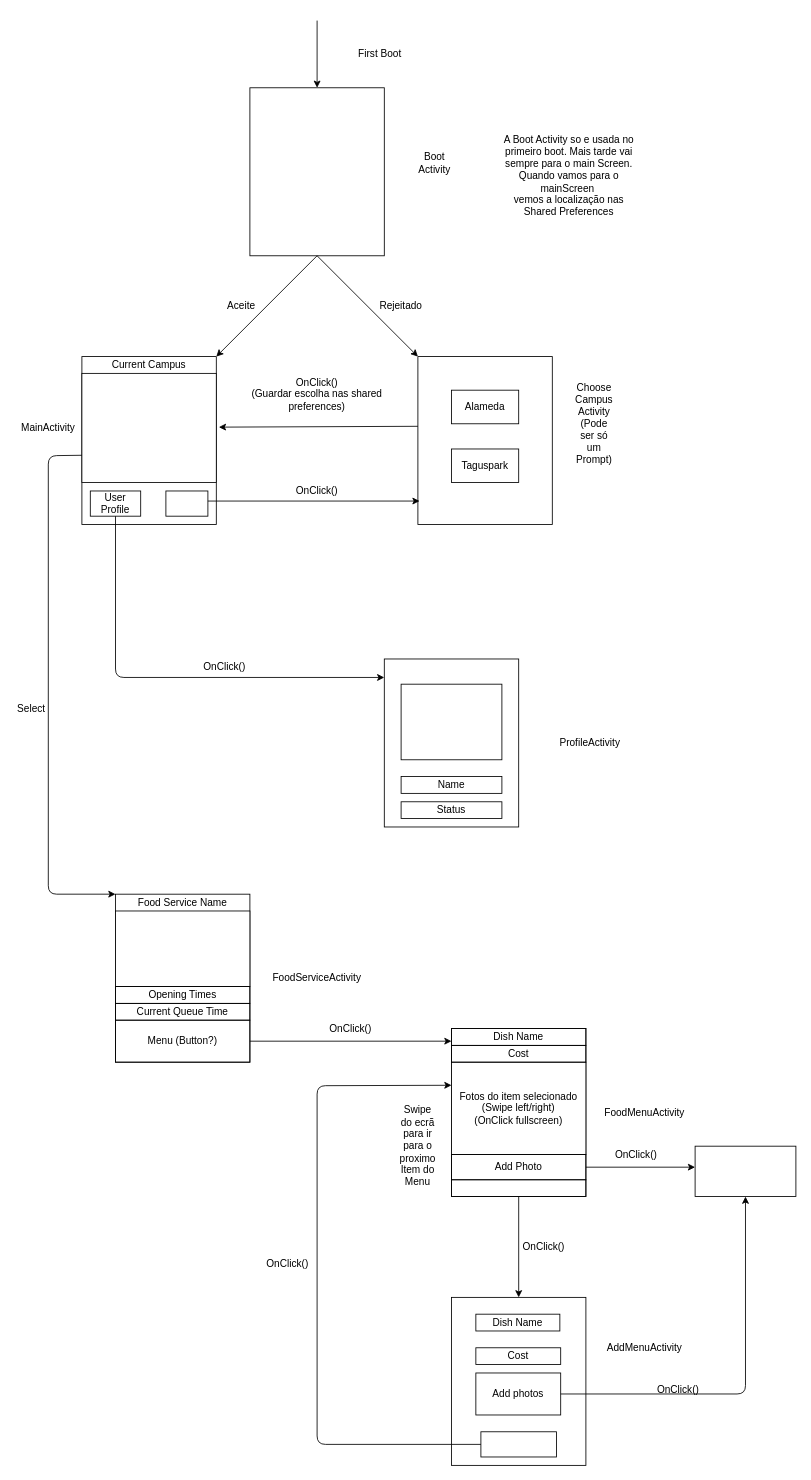
The diagram is 811 pixels wide and 1480 high, and some of its shapes have lost their labels. Each missing label, with the centre of its shape:
(PHOTOS CONTENT PROVIDER): [745,1171]
Add Menu: [518,1188]
Change Campus: [186,503]
Dinning Options at Current Campus (Edit Text Como usamos no lab): [148,428]
Done: [518,1444]
Foto?: [451,721]
Map/Directions: [182,948]
Permissão de Acesso a localização: [316,171]
